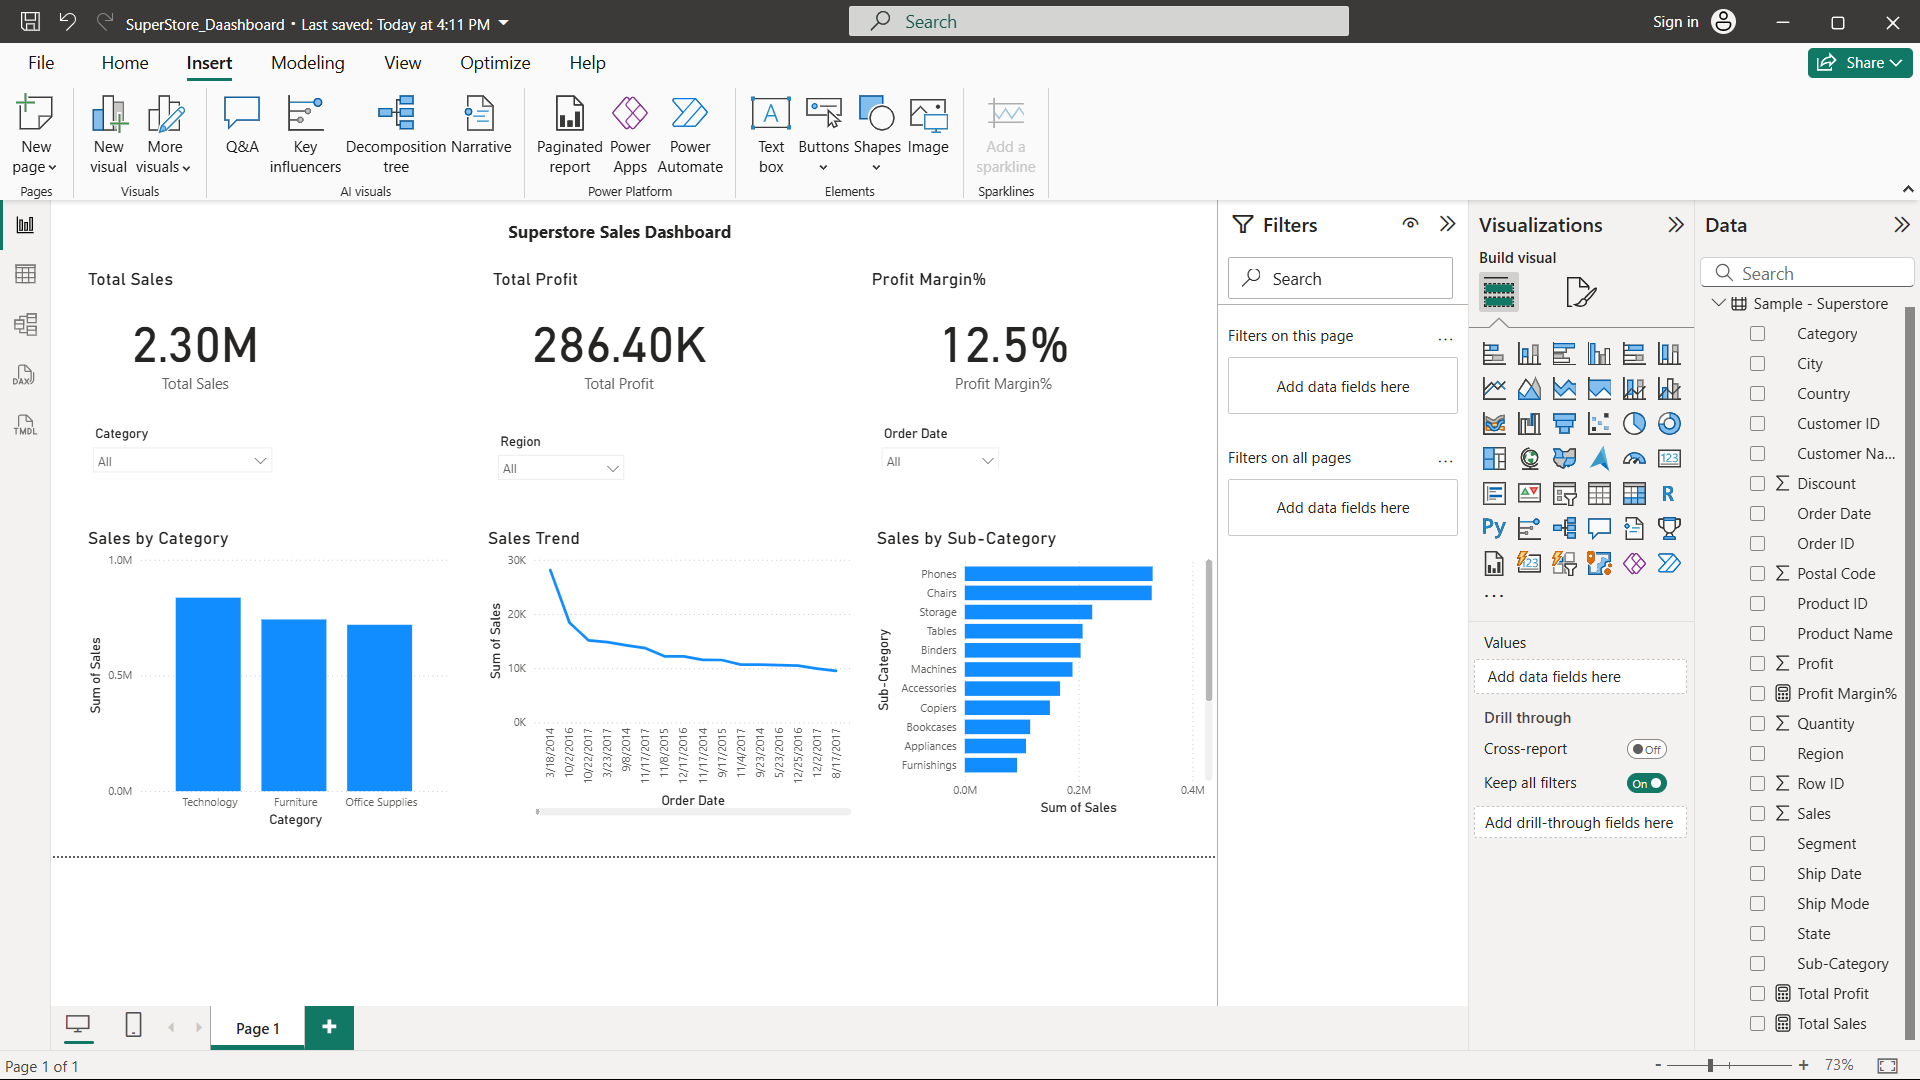

Layout of this report page (visuals, bound fields, positions):
{"tool":"powerbi","page":{"name":"Page 1","canvas":[1280,720],"ordinal":0},"visuals":[{"type":"card","title":"Total Sales","fields":{"Values":["Sample - Superstore.Total Sales"]},"box":[35.7,75.5,245.6,152.3],"z":0},{"type":"clusteredColumnChart","title":"Sales by Category","fields":{"Category":["Sample - Superstore.Category"],"Y":["Sum(Sample - Superstore.Sales)"]},"box":[35.7,359.5,407.5,333.4],"z":1},{"type":"lineChart","title":"Sales Trend","fields":{"Category":["Sample - Superstore.Order Date"],"Y":["Sum(Sample - Superstore.Sales)"]},"box":[474.8,359.5,408.9,321.1],"z":2},{"type":"slicer","fields":{"Values":["Sample - Superstore.Category"]},"box":[35.7,242.9,216.8,63.1],"z":3},{"type":"card","title":"Total Profit","fields":{"Values":["Sample - Superstore.Total Profit"]},"box":[480.3,75.5,286.8,152.3],"z":4},{"type":"clusteredBarChart","title":"Sales by Sub-Category","fields":{"Category":["Sample - Superstore.Sub-Category"],"Y":["Sum(Sample - Superstore.Sales)"]},"box":[901.5,359.5,378.7,321.1],"z":5},{"type":"card","title":"Profit Margin%","fields":{"Values":["Sample - Superstore.Profit Margin%"]},"box":[896.1,75.5,299.1,152.3],"z":6},{"type":"slicer","fields":{"Values":["Sample - Superstore.Region"]},"box":[480.3,251.1,159.2,87.8],"z":7},{"type":"slicer","fields":{"Values":["Sample - Superstore.Order Date"]},"box":[901.5,242.9,149.6,52.1],"z":8},{"type":"textbox","box":[474.8,16.5,299.1,59],"z":9}]}

Visuals, with their boxes on the page's 1280x720 design canvas (x1, y1, x2, y2). These are canvas units, not pixel positions in the 1920x1080 screenshot, which may show the page scaled, cropped or inside an application window:
"Total Sales" card: bbox=[36, 76, 281, 228]
"Sales by Category" clusteredColumnChart: bbox=[36, 360, 443, 693]
"Sales Trend" lineChart: bbox=[475, 360, 884, 681]
slicer - Sample - Superstore.Category: bbox=[36, 243, 252, 306]
"Total Profit" card: bbox=[480, 76, 767, 228]
"Sales by Sub-Category" clusteredBarChart: bbox=[902, 360, 1280, 681]
"Profit Margin%" card: bbox=[896, 76, 1195, 228]
slicer - Sample - Superstore.Region: bbox=[480, 251, 640, 339]
slicer - Sample - Superstore.Order Date: bbox=[902, 243, 1051, 295]
textbox: bbox=[475, 16, 774, 76]
